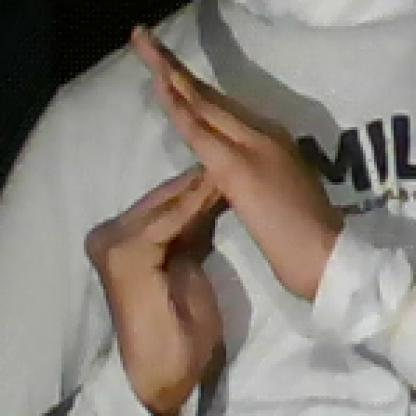Z: (79, 26, 313, 378)
